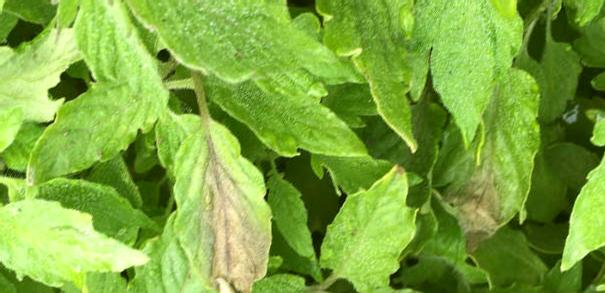Tomato mold leaf: (145, 110, 291, 293), (437, 55, 546, 253), (306, 0, 440, 157), (120, 0, 360, 82), (28, 0, 192, 109), (23, 79, 185, 188), (0, 202, 168, 276), (310, 172, 414, 291), (419, 0, 499, 151)
